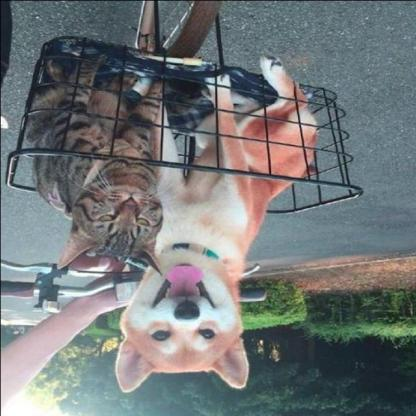cat: (38, 73, 162, 274)
dog: (110, 86, 316, 398)
